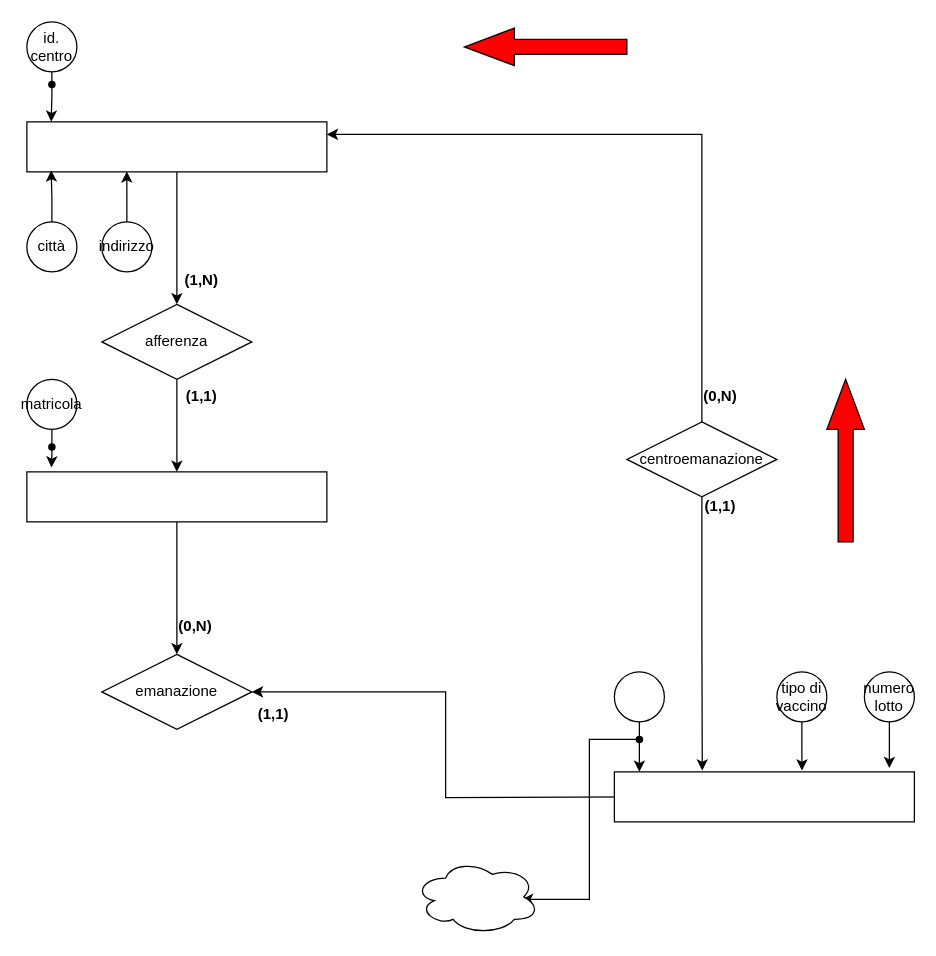
The diagram is 936 pixels wide and 956 high, and some of its shapes have lost their labels. The centre of each missing label's shape, as x and y in pixels:
"centro vaccinale" goes at (x=176, y=146).
"codice fiscale cittadino" goes at (x=476, y=896).
"data" goes at (x=638, y=696).
"medico" goes at (x=176, y=496).
"report" goes at (x=763, y=796).
